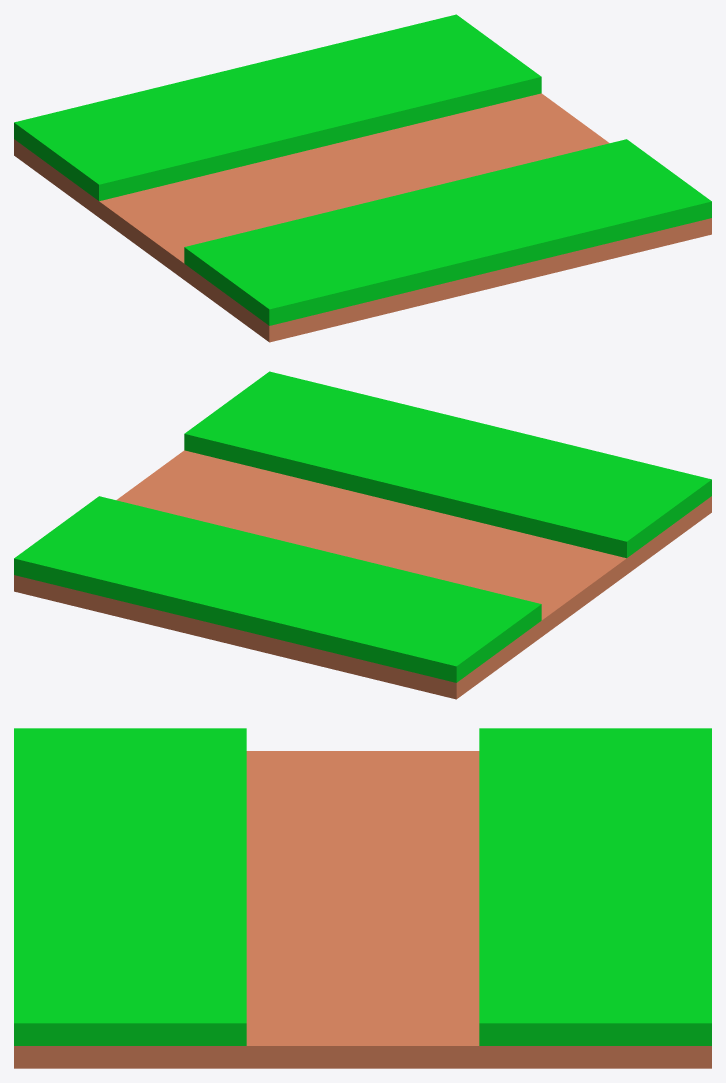
The model's file is SoilTrail.fbx.
The picture shows the model from 3 angles, top to bottom: view 1: azimuth 30°, elevation 25°; view 2: azimuth 150°, elevation 25°; view 3: azimuth 270°, elevation 25°; orthographic projection. The views are drawn at different scales.
Visible parts, largest first — view 1: Soil; view 2: Soil; view 3: Soil.
Boxes of the visible parts, <box> form: Soil: <box>14,14,711,342</box>; Soil: <box>14,371,711,699</box>; Soil: <box>14,728,711,1068</box>.
Bounding box in the file's own units: 560 × 560 × 40.
